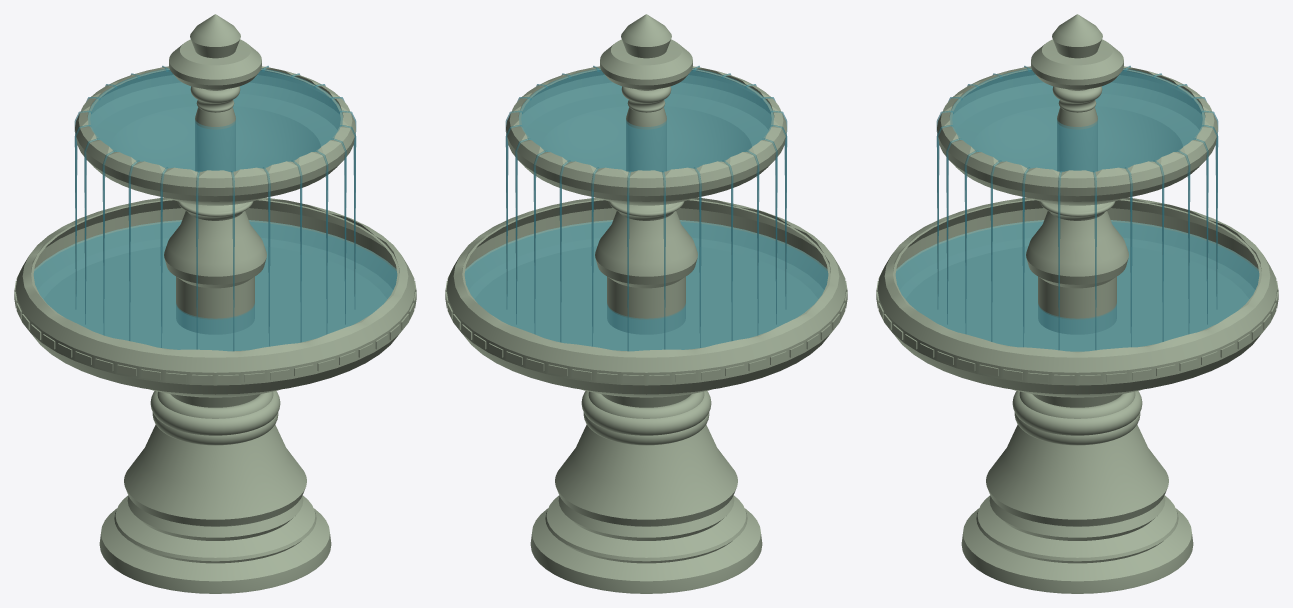
Rendered from Fountain_2Tier.obj.
The picture shows the model from 3 angles, left to right: view 1: azimuth 30°, elevation 25°; view 2: azimuth 150°, elevation 25°; view 3: azimuth 270°, elevation 25°; orthographic projection.
Parts seen in each view (by area): view 1: Proj_Fountain2Tiered01-COM-Fountain_2Tier01-57427-Pyrenees, Proj_Fountain2Tiered01-COM-Group_2-167252-Water_Pool_Light; view 2: Proj_Fountain2Tiered01-COM-Fountain_2Tier01-57427-Pyrenees, Proj_Fountain2Tiered01-COM-Group_2-167252-Water_Pool_Light; view 3: Proj_Fountain2Tiered01-COM-Fountain_2Tier01-57427-Pyrenees, Proj_Fountain2Tiered01-COM-Group_2-167252-Water_Pool_Light.
Part boxes in pixels (<box>): Proj_Fountain2Tiered01-COM-Fountain_2Tier01-57427-Pyrenees: <box>14,14,416,593</box>; Proj_Fountain2Tiered01-COM-Group_2-167252-Water_Pool_Light: <box>33,66,397,351</box>; Proj_Fountain2Tiered01-COM-Fountain_2Tier01-57427-Pyrenees: <box>445,14,847,593</box>; Proj_Fountain2Tiered01-COM-Group_2-167252-Water_Pool_Light: <box>464,66,828,351</box>; Proj_Fountain2Tiered01-COM-Fountain_2Tier01-57427-Pyrenees: <box>876,14,1278,593</box>; Proj_Fountain2Tiered01-COM-Group_2-167252-Water_Pool_Light: <box>895,66,1259,351</box>.
Size of the model in its own units: 0.9183 by 1.34 by 0.9183.
